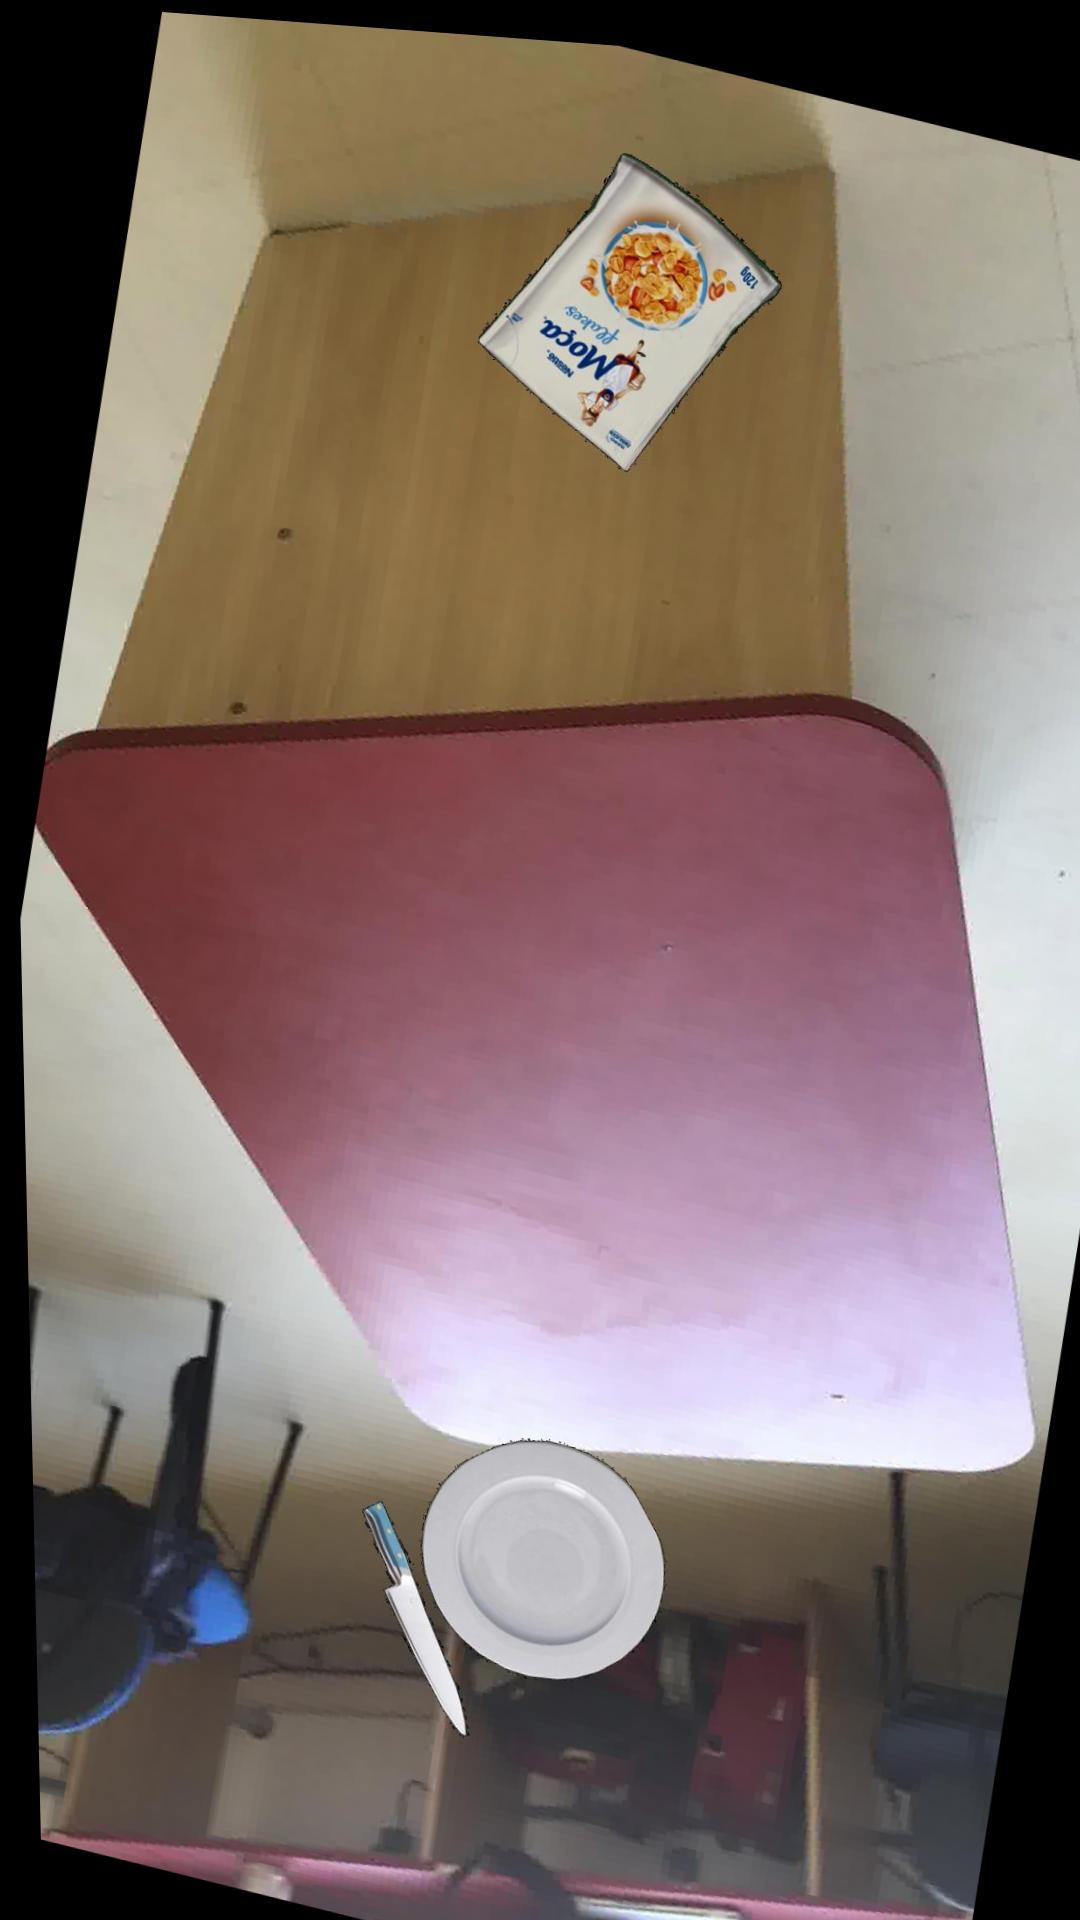corn flakes: (473, 144, 778, 462)
knife: (352, 1495, 459, 1730)
plate: (410, 1431, 655, 1672)
